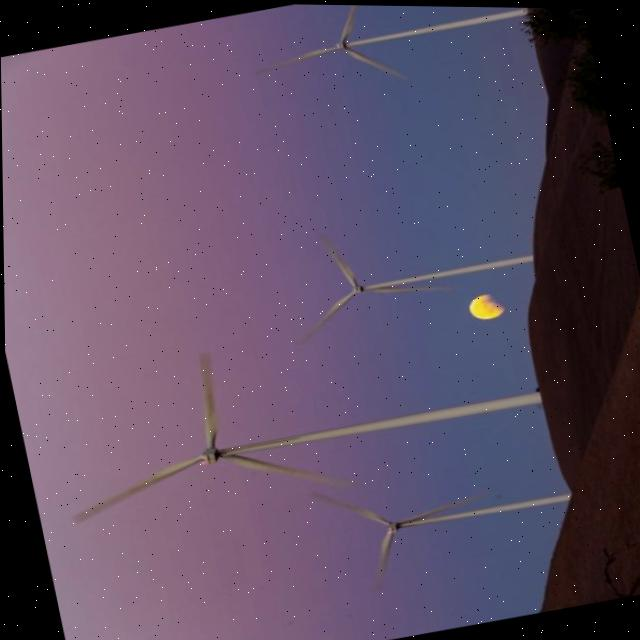solid-blade: (72, 455, 202, 521), (221, 454, 352, 486), (297, 290, 353, 343), (320, 233, 358, 286), (198, 351, 217, 447), (363, 285, 447, 291)
